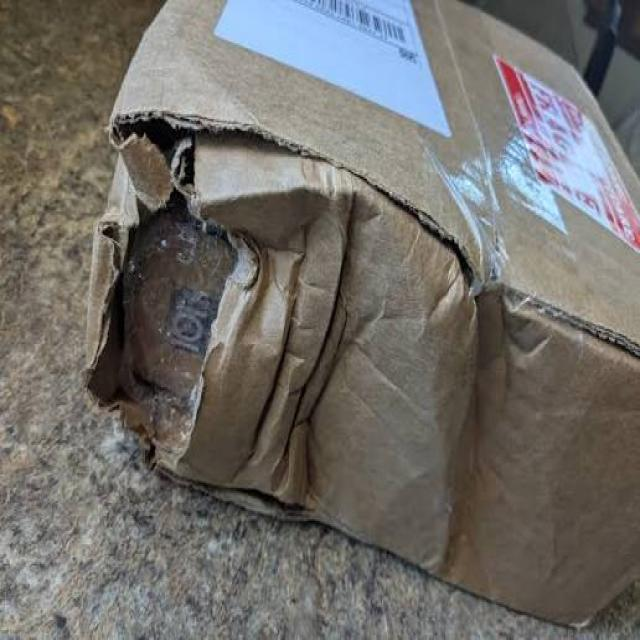carton_box: (86, 1, 640, 640)
package_damage: (83, 94, 578, 578)
